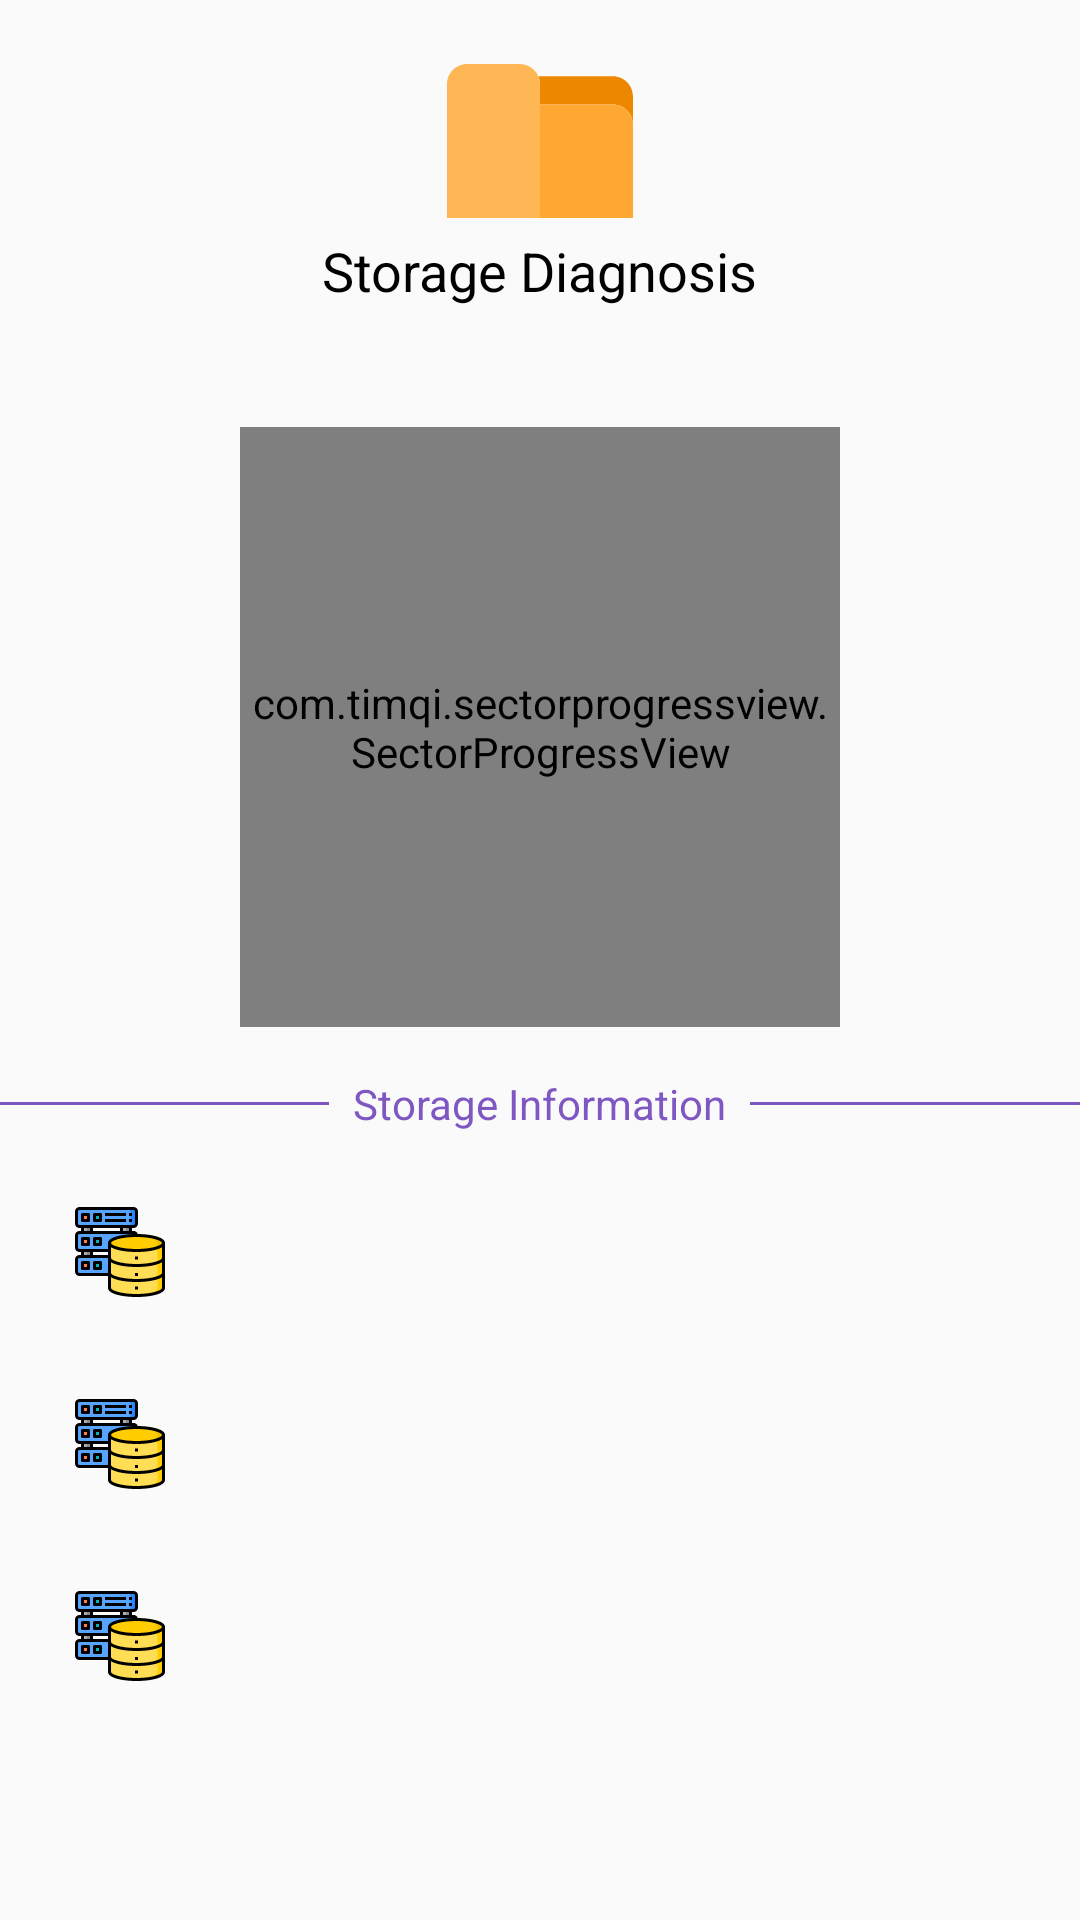

Icons on this 1080px×1920px Android screen, each with its box as (x1, y1, x2, y2):
database: (75, 1207, 165, 1297), (75, 1399, 165, 1489), (75, 1591, 165, 1681)
folder: (447, 64, 633, 218)
